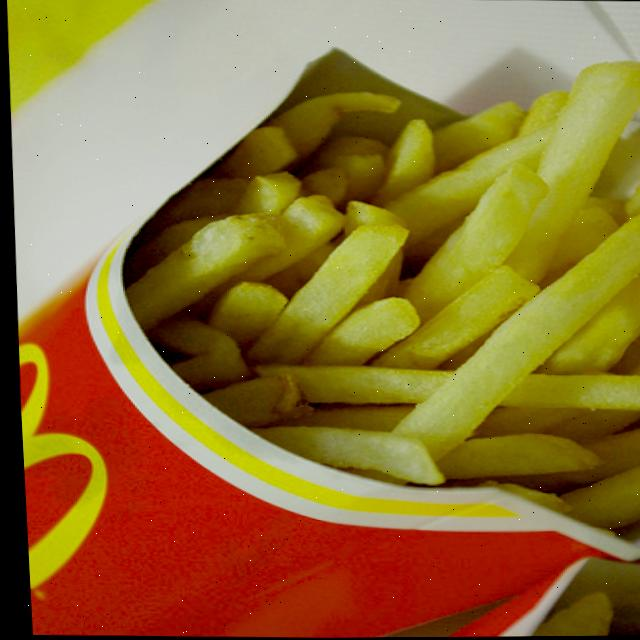炸货点心: (76, 40, 640, 562)
